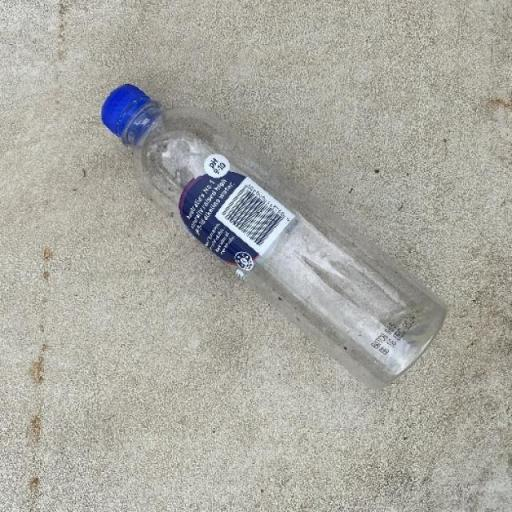plastic: (103, 84, 448, 390)
